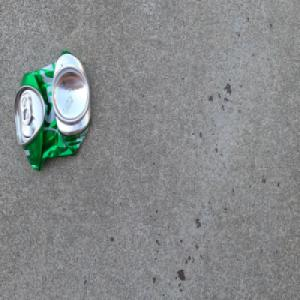SodaCan: (13, 48, 91, 172)
